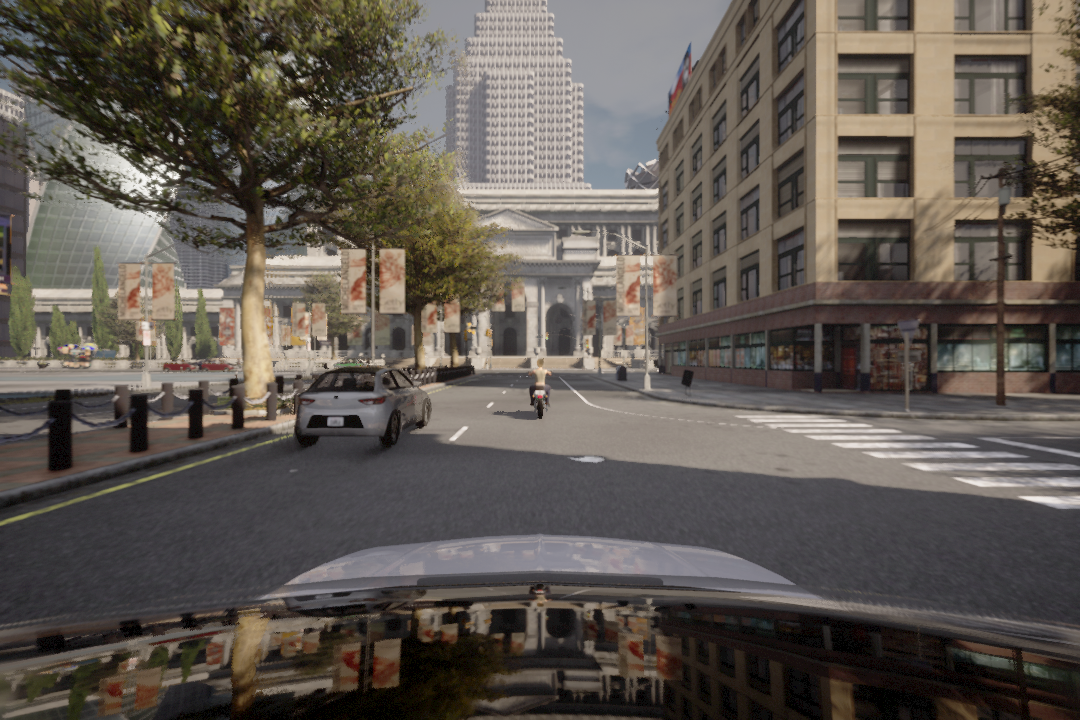walkside: (744, 411, 1080, 512)
